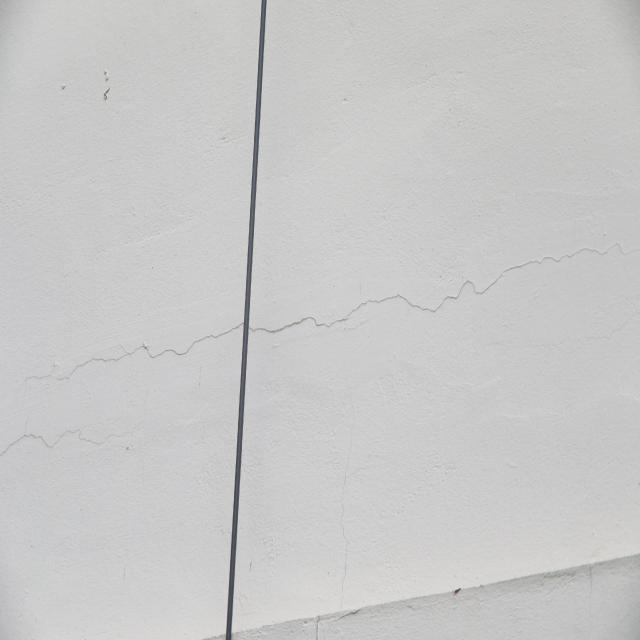SurfaceCrack: (249, 211, 639, 355)
